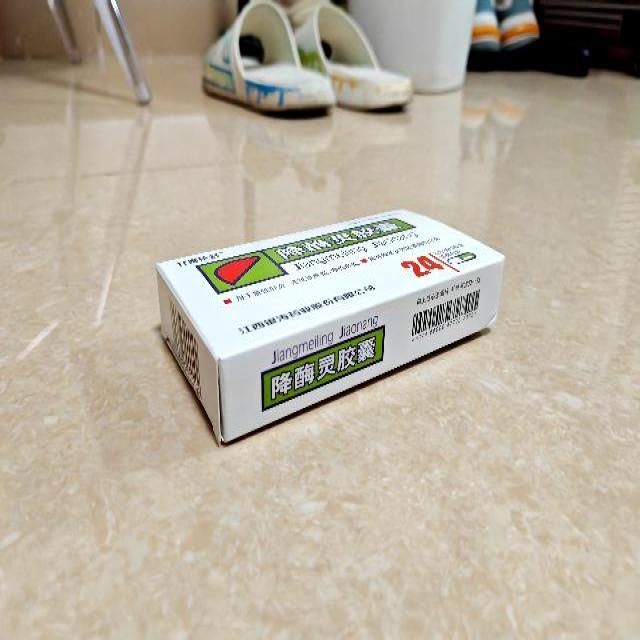box: (156, 209, 504, 447)
